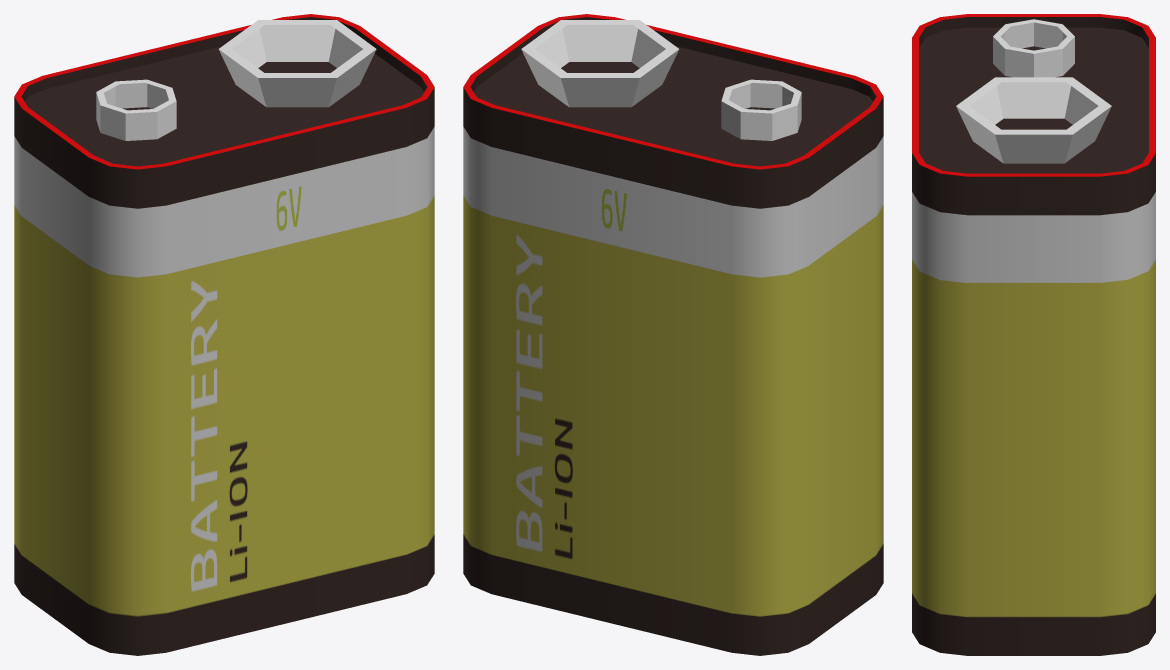
The model's file is battery6v.glb.
3 views of the same model, side by side, from view 1: azimuth 30°, elevation 25°; view 2: azimuth 150°, elevation 25°; view 3: azimuth 270°, elevation 25° (orthographic).
Parts seen in each view (by area): view 1: Plane; view 2: Plane; view 3: Plane.
Part boxes in pixels (x1=…): Plane: x1=14, y1=14, x2=434, y2=655; Plane: x1=463, y1=14, x2=883, y2=655; Plane: x1=912, y1=14, x2=1155, y2=655.
Bounding box in the file's own units: 1.1 × 1.58 × 0.6941.
4 materials, 1 textured.
